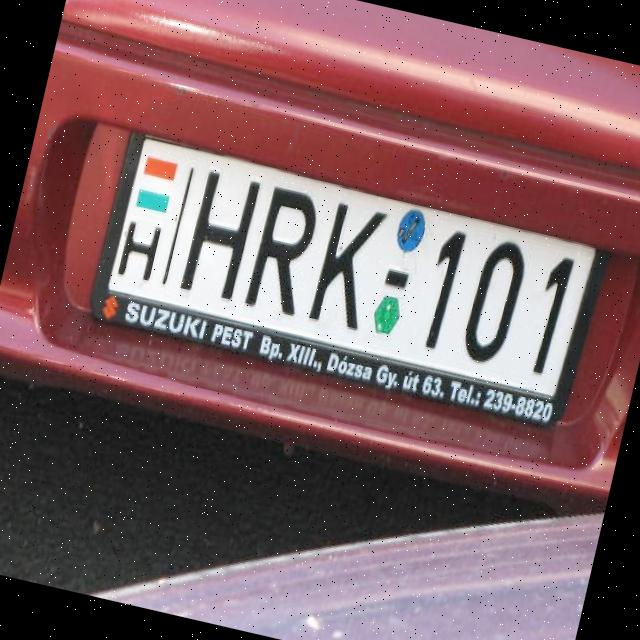licence: (86, 124, 604, 430)
